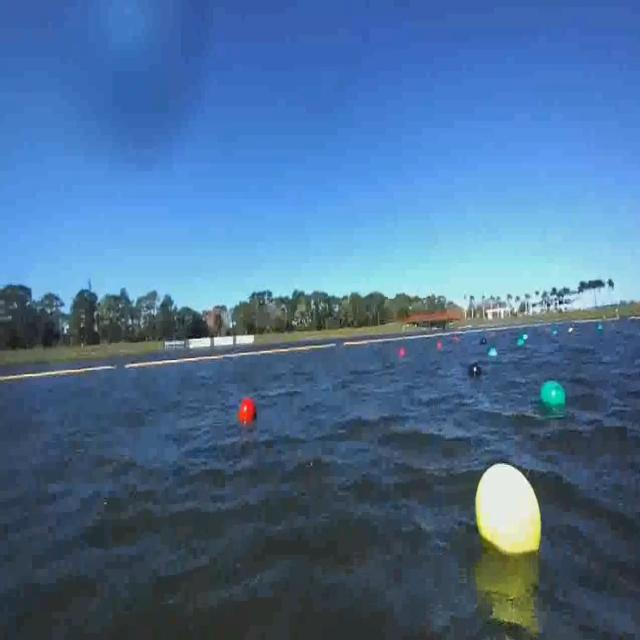black-buoy: (468, 363, 482, 377)
green-buoy: (541, 379, 568, 410)
red-buoy: (238, 399, 256, 428)
yellow-buoy: (474, 461, 542, 557)
